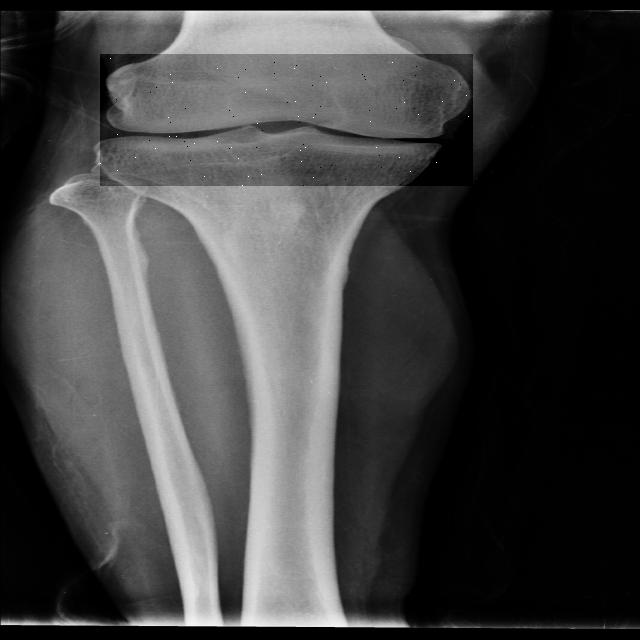normal: (100, 54, 473, 186)
